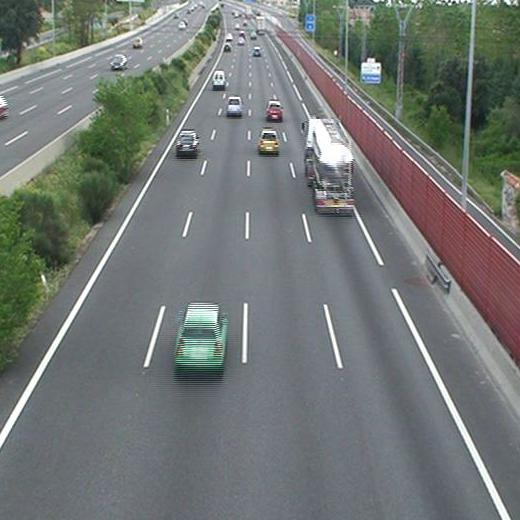car: (175, 307, 225, 369), (177, 132, 198, 156), (259, 130, 279, 153), (226, 97, 241, 116), (267, 103, 282, 120), (223, 44, 232, 52), (253, 48, 261, 55)
tank-truck: (305, 121, 353, 213)
van: (212, 71, 224, 89)
